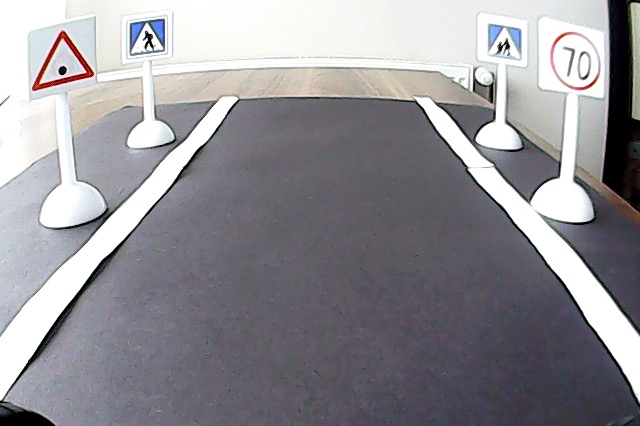green light: (29, 33, 95, 88)
pedestrian crossing: (126, 20, 170, 57)
school crossing: (484, 20, 525, 63)
speed limit 70: (547, 27, 602, 93)
